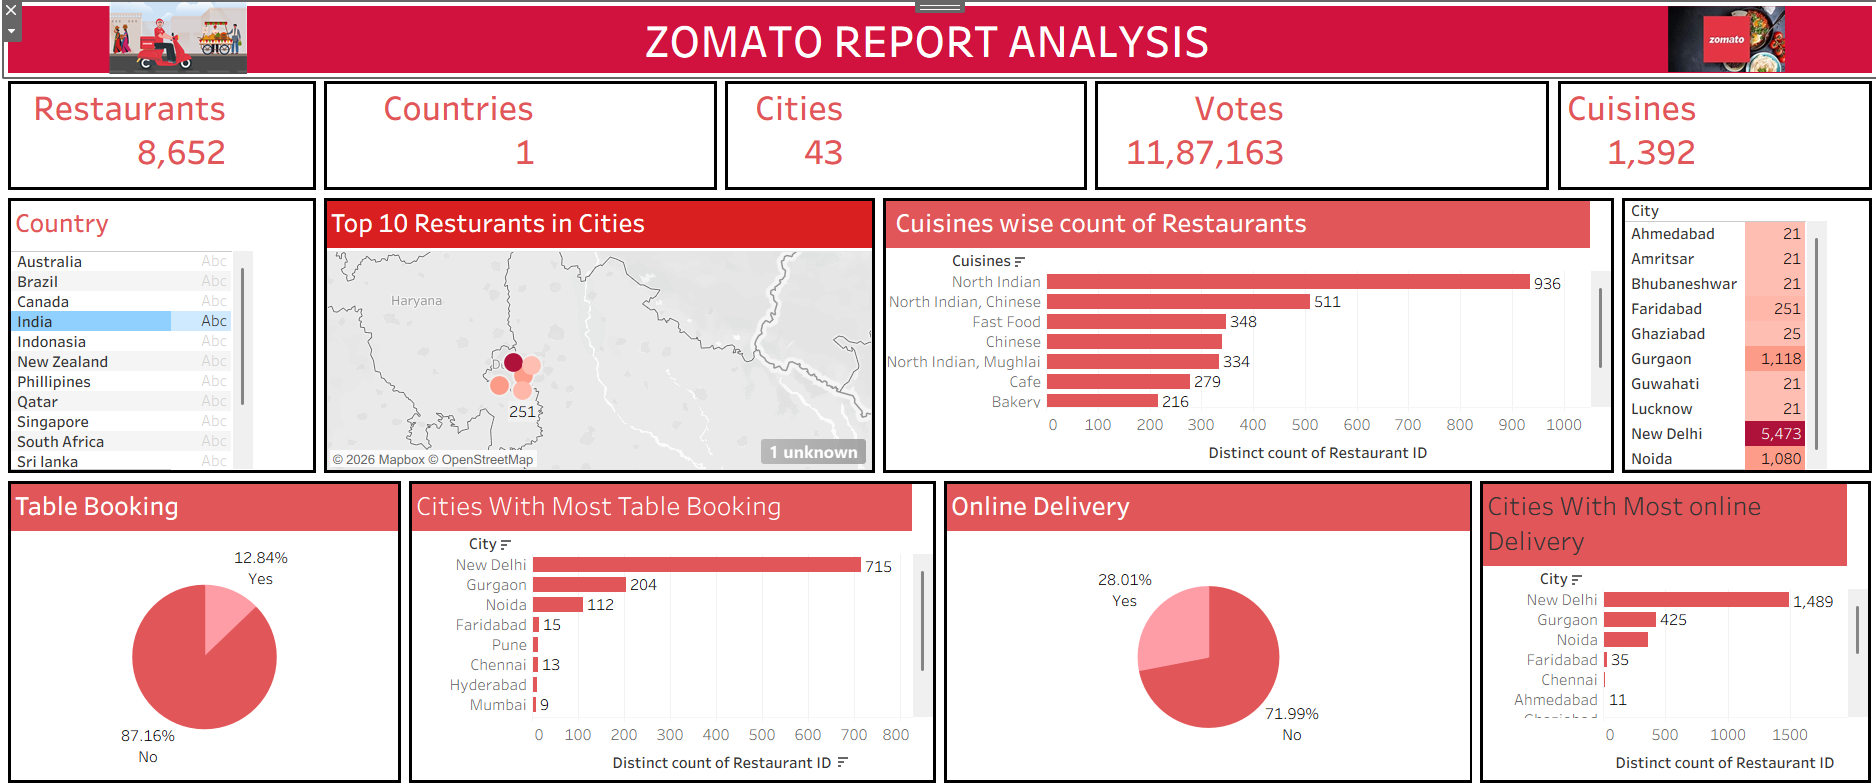

What the dashboard file says about the page in this screenshot:
{"tool":"tableau","page":{"name":"Dashboard 2","canvas":[1000,1000],"units":"permille","ordinal":1},"visuals":[{"type":"image","param":"Image/ZOMATO 1.png","box":[16.3,2.5,160.5,97.4]},{"type":"text","box":[4.8,10,990.3,93.6]},{"type":"image","param":"Image/ZOMATO 2.jpg","box":[838.1,15,157.7,82.4]},{"type":"worksheet","title":"Total Restaurants","mark":"Automatic","box":[4.8,103.6,167.2,146.1]},{"type":"worksheet","title":"Total Country ","mark":"Automatic","box":[172.1,103.6,212.3,146.1]},{"type":"worksheet","title":"Total Cities ","mark":"Automatic","box":[384.4,103.6,195.7,146.1]},{"type":"worksheet","title":"Total Votes","mark":"Automatic","box":[580.1,103.6,244.5,146.1]},{"type":"worksheet","title":"Total Cuisines","mark":"Automatic","box":[824.6,103.6,170.6,146.1]},{"type":"worksheet","title":"Country","mark":"Automatic","rows":["Countryname"],"box":[4.8,249.7,167.2,353.3]},{"type":"worksheet","title":"Top 10 Resturants in Cities","mark":"Automatic","box":[172,249.7,295.8,353.3]},{"type":"worksheet","title":" Cuisines wise count of Restaurants","mark":"Bar","rows":["Cuisines"],"cols":["RestaurantID"],"box":[467.8,249.7,391,353.3]},{"type":"worksheet","title":"Cities","mark":"Square","rows":["City"],"box":[858.7,249.7,136.4,353.3]},{"type":"worksheet","title":"Table Booking ","mark":"Pie","box":[4.8,603,212.2,387]},{"type":"worksheet","title":"Cities With Most Table Booking","mark":"Automatic","rows":["City"],"cols":["RestaurantID"],"box":[217,603,282.9,387]},{"type":"worksheet","title":"Online Delivery","mark":"Pie","box":[499.9,603,283.9,387]},{"type":"worksheet","title":"Cities With Most online Delivery","mark":"Automatic","rows":["City"],"cols":["RestaurantID"],"box":[783.8,603,211.3,387]}]}

Visuals, with their boxes on the dashboard's canvas, which has no fixed pixel size, in thousandths of its width and height (x1, y1, x2, y2). These are canvas units, not pixel positions in the 1876x784 screenshot, which may show the page scaled, cropped or inside an application window:
image: bbox(16, 2, 177, 100)
text: bbox(5, 10, 995, 104)
image: bbox(838, 15, 996, 97)
"Total Restaurants" worksheet: bbox(5, 104, 172, 250)
"Total Country " worksheet: bbox(172, 104, 384, 250)
"Total Cities " worksheet: bbox(384, 104, 580, 250)
"Total Votes" worksheet: bbox(580, 104, 825, 250)
"Total Cuisines" worksheet: bbox(825, 104, 995, 250)
"Country" worksheet: bbox(5, 250, 172, 603)
"Top 10 Resturants in Cities" worksheet: bbox(172, 250, 468, 603)
" Cuisines wise count of Restaurants" worksheet (Bar marks): bbox(468, 250, 859, 603)
"Cities" worksheet (Square marks): bbox(859, 250, 995, 603)
"Table Booking " worksheet (Pie marks): bbox(5, 603, 217, 990)
"Cities With Most Table Booking" worksheet: bbox(217, 603, 500, 990)
"Online Delivery" worksheet (Pie marks): bbox(500, 603, 784, 990)
"Cities With Most online Delivery" worksheet: bbox(784, 603, 995, 990)
